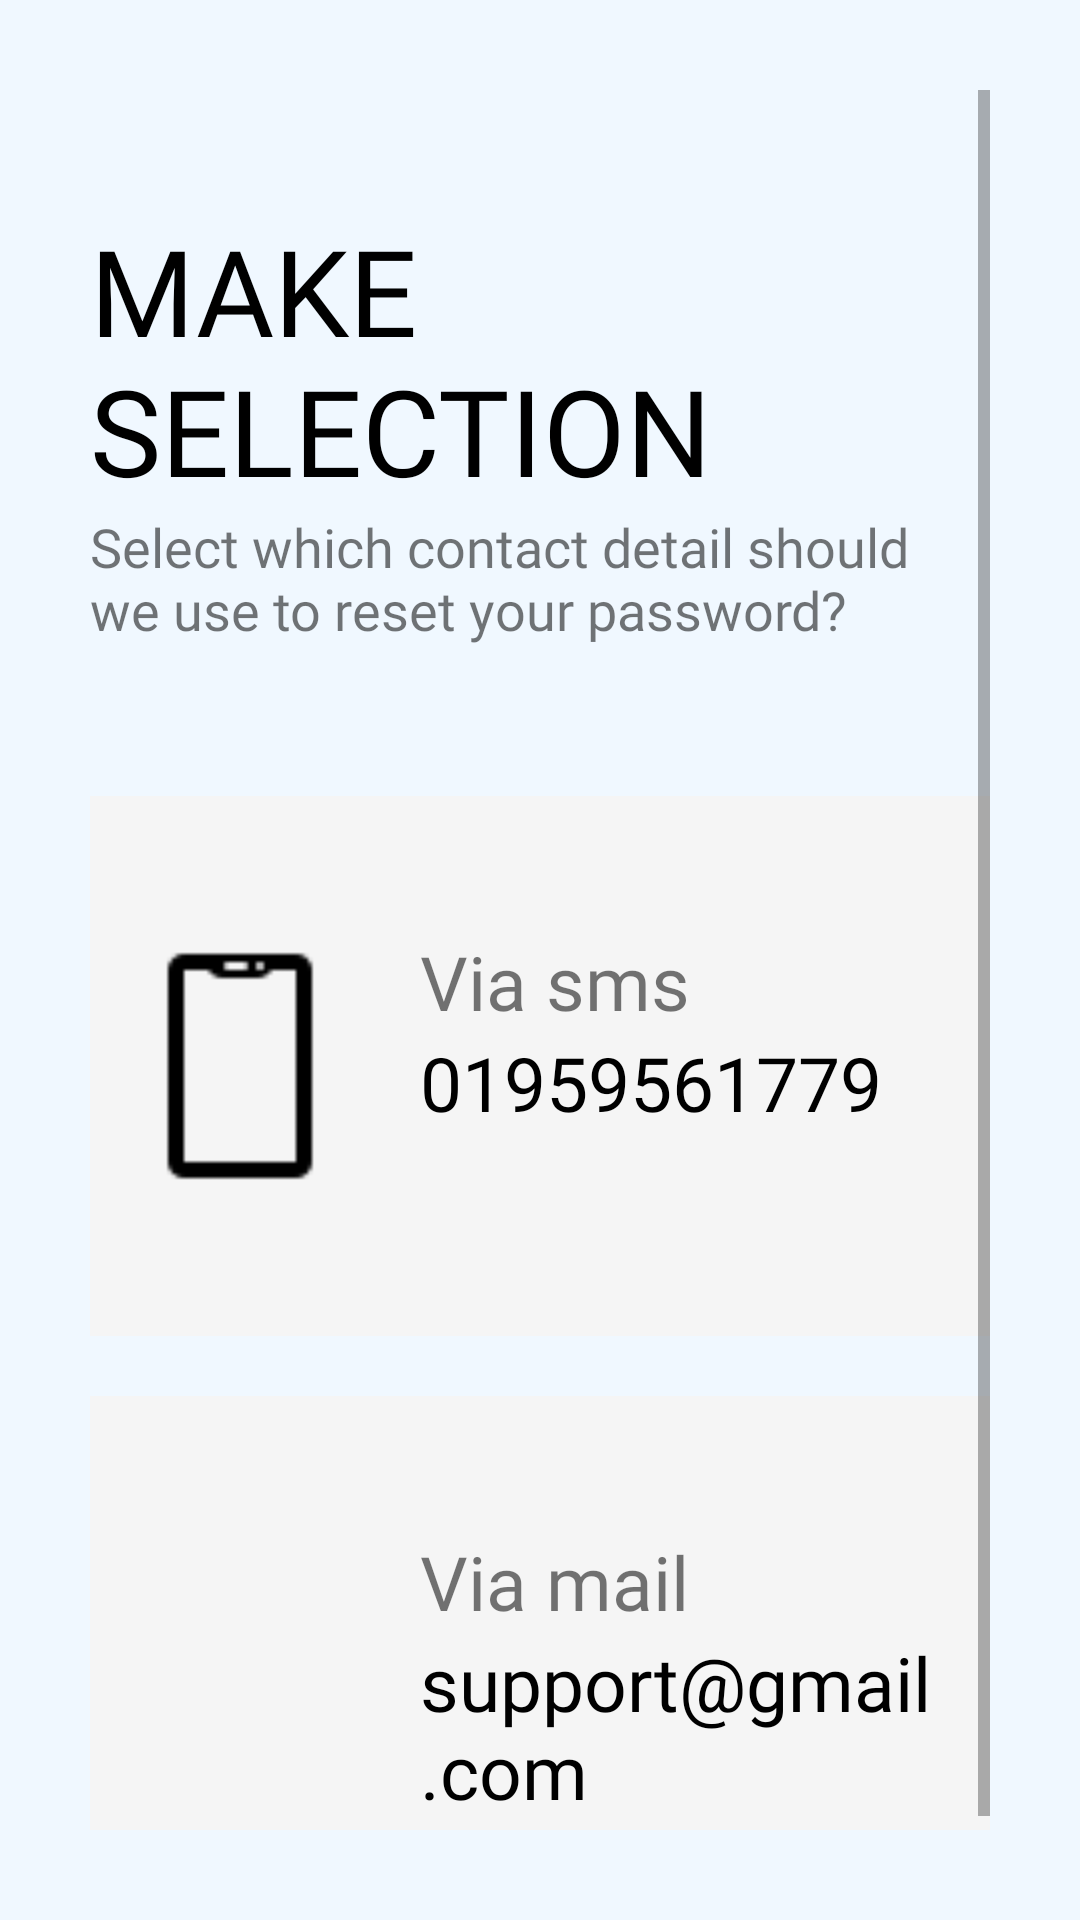

Where to tap for icons on this 1080 × 1920 app screen, as (x,y):
mobile: (240,1066)
